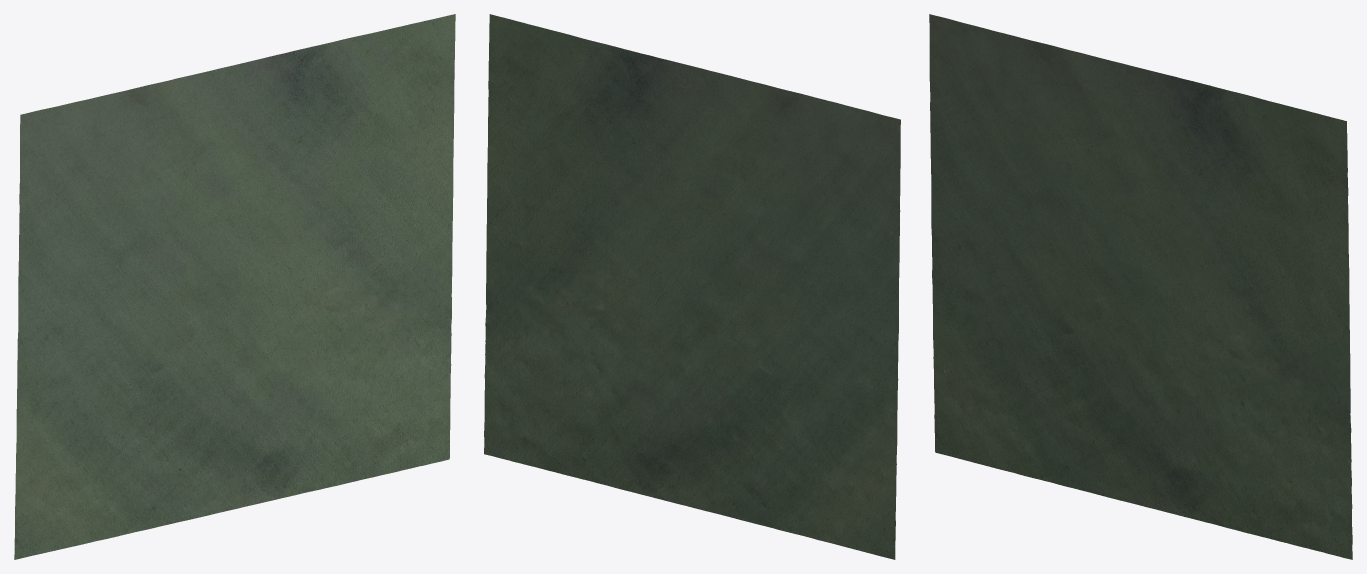
The model's file is Tile_+014_+006.fbx.
3 renders of one model, left to right at view 1: azimuth 30°, elevation 25°; view 2: azimuth 150°, elevation 25°; view 3: azimuth 330°, elevation 25°, orthographic. The views are drawn at different scales.
Parts seen in each view (by area): view 1: DefaultName; view 2: DefaultName; view 3: DefaultName.
Boxes of the visible parts, box(x1,y1,x2,y2) form: DefaultName: box(14, 14, 455, 559); DefaultName: box(484, 14, 900, 559); DefaultName: box(929, 14, 1352, 559).
Bounding box in the file's own units: 22.54 × 22.54 × 1.05.
